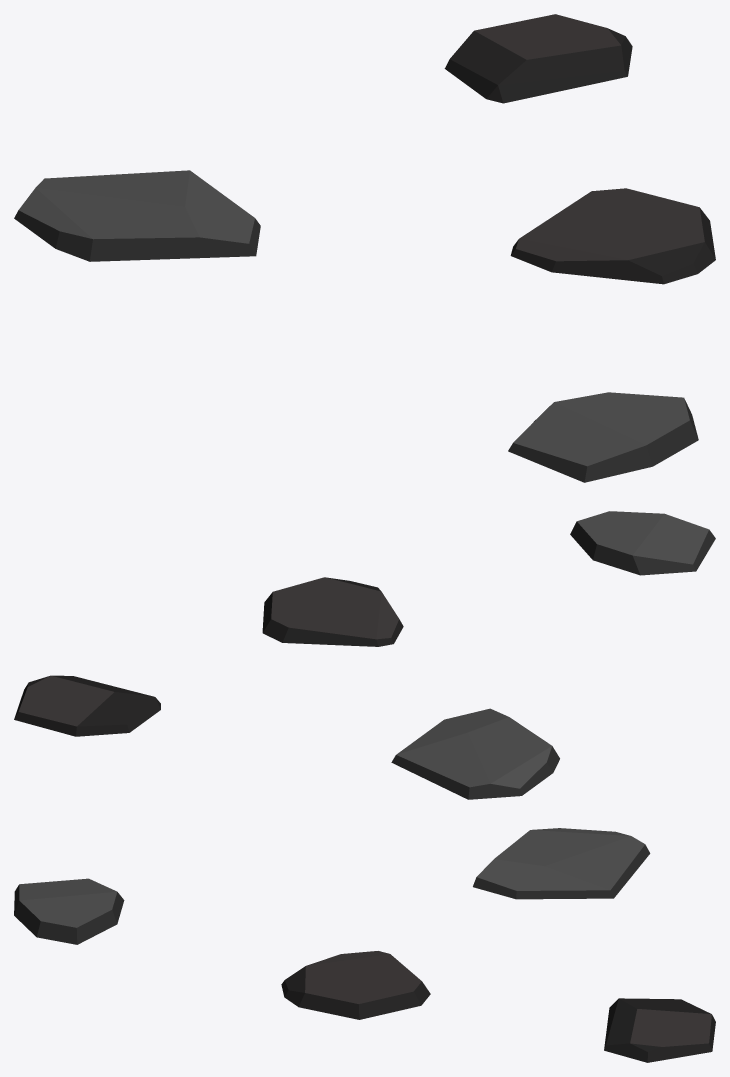
The model's file is Rock_Patch_01.glb.
The picture shows the model from 3 angles, top to bottom: view 1: azimuth 30°, elevation 25°; view 2: azimuth 150°, elevation 25°; view 3: azimuth 270°, elevation 25°; orthographic projection. The views are drawn at different scales.
Visible parts, largest first — view 1: Rock_Patch_01; view 2: Rock_Patch_01; view 3: Rock_Patch_01.
Part boxes in pixels (box(x1,y1,x2,y2)): Rock_Patch_01: box(14, 14, 715, 482); Rock_Patch_01: box(14, 511, 715, 799); Rock_Patch_01: box(14, 828, 715, 1062).
Size of what is drawn, in the model's own units: 1.15 by 0.0343 by 1.51.
Materials: 1 (1 with a texture image).
